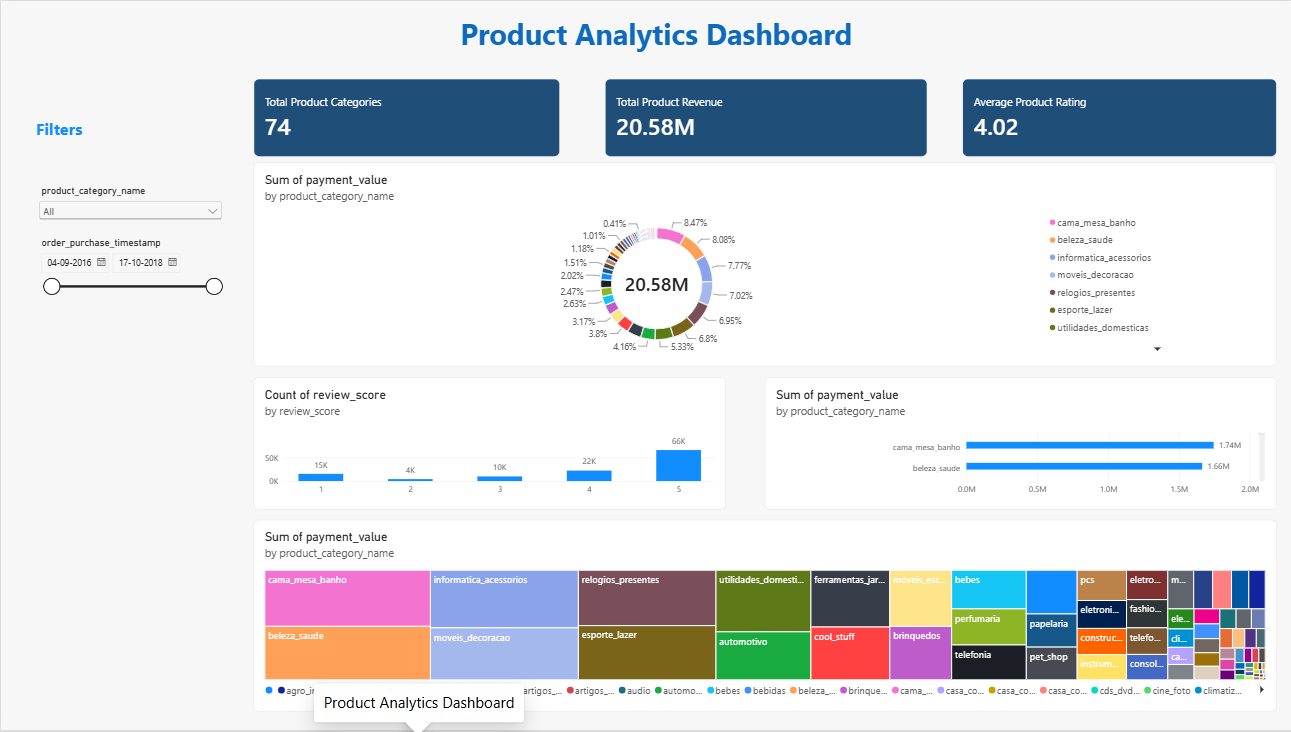

This screenshot's page, from the dashboard's own definition file:
{"tool":"powerbi","page":{"name":"Product Analytics Dashboard","canvas":[1920,1080],"ordinal":2},"visuals":[{"type":"cardVisual","fields":{"Data":["Count(master_dataset.product_category_name)"]},"box":[374,114,454,116],"z":0},{"type":"cardVisual","fields":{"Data":["Sum(master_dataset.payment_value)"]},"box":[894,114,478,116],"z":1},{"type":"cardVisual","fields":{"Data":["Avg(master_dataset.review_score)"]},"box":[1424,114,466,116],"z":2},{"type":"clusteredBarChart","fields":{"Category":["master_dataset.product_category_name"],"Y":["Sum(master_dataset.payment_value)"]},"box":[1132,558,758,196],"z":3},{"type":"columnChart","fields":{"Category":["master_dataset.review_score"],"Y":["CountNonNull(master_dataset.review_score)"]},"box":[374,558,700,196],"z":4},{"type":"donutChart","fields":{"Category":["master_dataset.product_category_name"],"Y":["Sum(master_dataset.payment_value)"]},"box":[374,238,1516,302],"z":5},{"type":"treemap","fields":{"Details":["master_dataset.product_category_name"],"Values":["Sum(master_dataset.payment_value)"]},"box":[374,768,1516,284],"z":6},{"type":"slicer","fields":{"Values":["master_dataset.product_category_name"]},"box":[52,272,280,78],"z":7},{"type":"slicer","fields":{"Values":["master_dataset.order_purchase_timestamp"]},"box":[52,350,280,140],"z":8},{"type":"textbox","box":[52,18,1838,74],"z":9}]}

Visuals, with their boxes in screenshot pixels (x1, y1, x2, y2), scaled from the page's 1920x1080 canvas onto the 1291x732 screenshot:
cardVisual - Count(master_dataset.product_category_name): <box>251,77,557,156</box>
cardVisual - Sum(master_dataset.payment_value): <box>601,77,923,156</box>
cardVisual - Avg(master_dataset.review_score): <box>957,77,1271,156</box>
clusteredBarChart - master_dataset.product_category_name x Sum(master_dataset.payment_value): <box>761,378,1271,511</box>
columnChart - master_dataset.review_score x CountNonNull(master_dataset.review_score): <box>251,378,722,511</box>
donutChart - master_dataset.product_category_name x Sum(master_dataset.payment_value): <box>251,161,1271,366</box>
treemap - master_dataset.product_category_name x Sum(master_dataset.payment_value): <box>251,521,1271,713</box>
slicer - master_dataset.product_category_name: <box>35,184,223,237</box>
slicer - master_dataset.order_purchase_timestamp: <box>35,237,223,332</box>
textbox: <box>35,12,1271,62</box>
